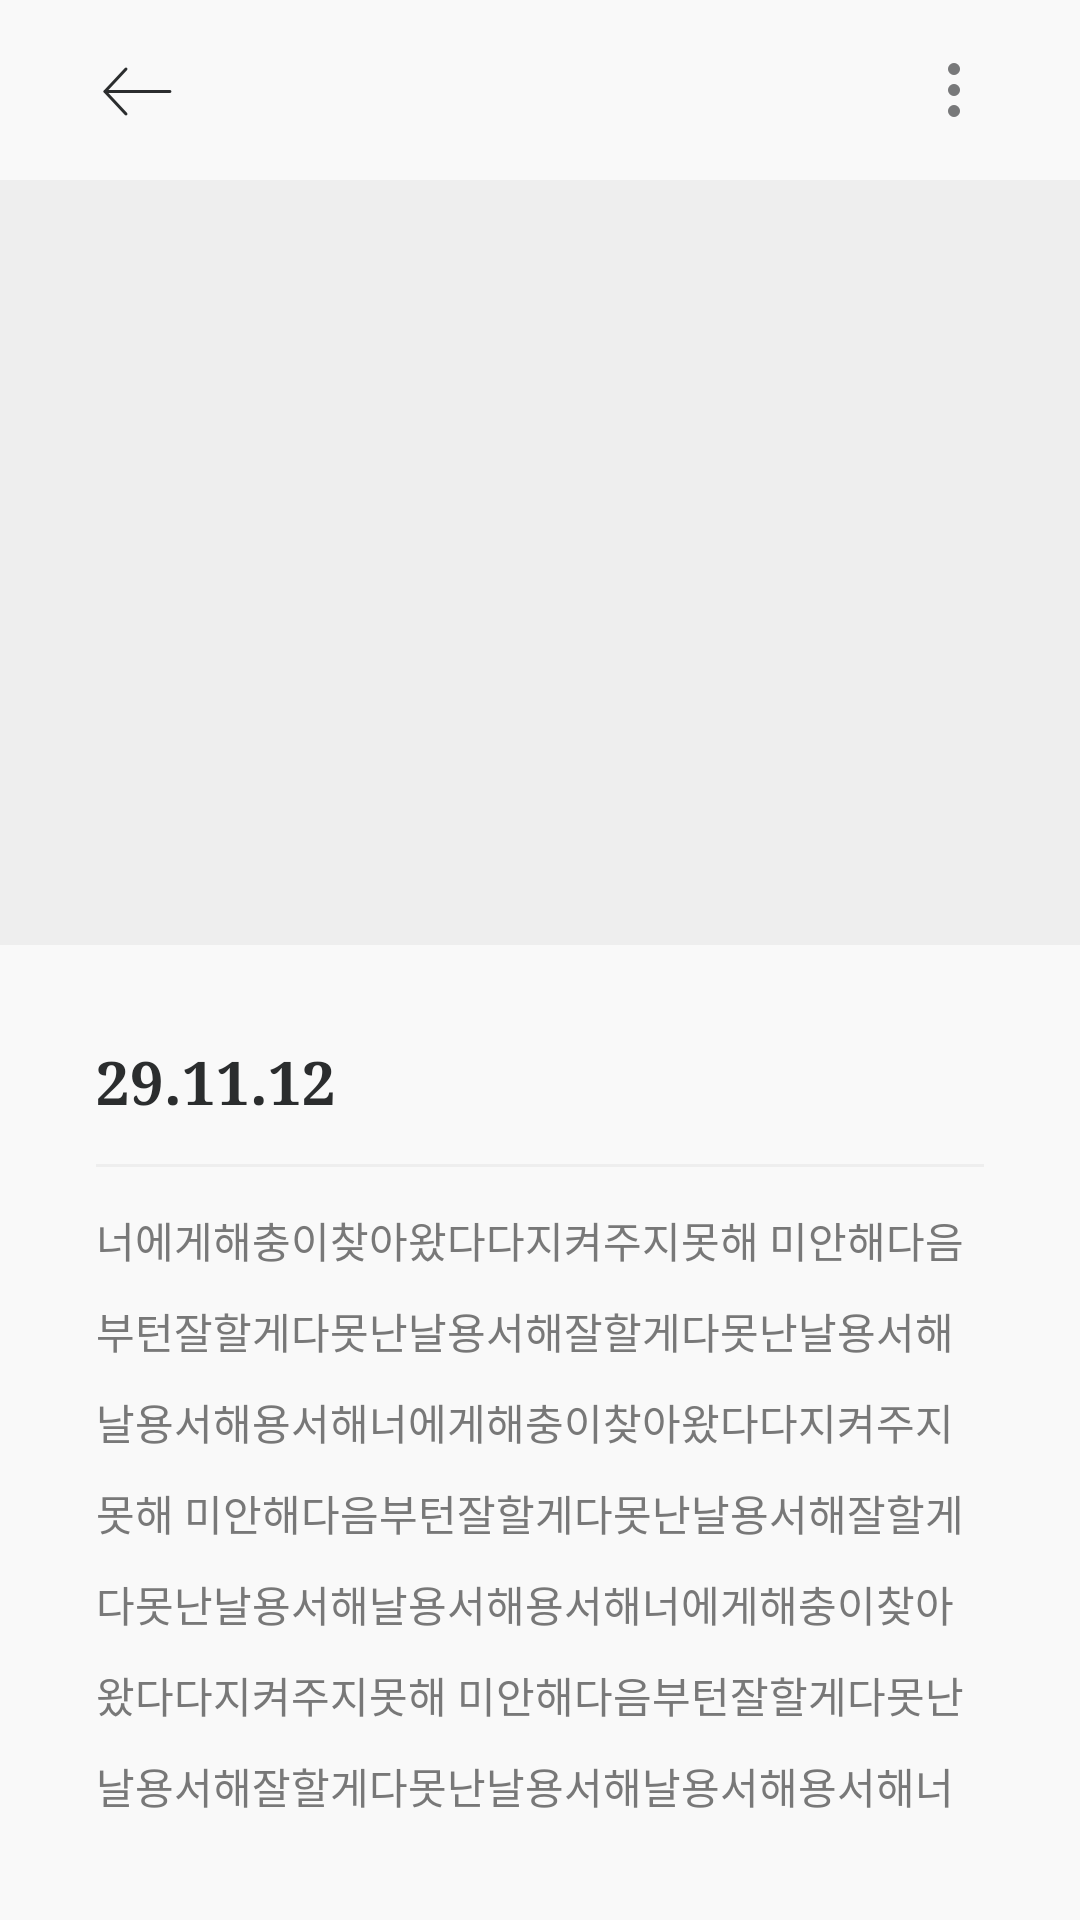

Icons on this 1080w x 1920h Android screen, each with its box as region(x1, y1, x2, y2):
allow left: region(103, 67, 172, 116)
vertical dot: region(948, 63, 960, 117)
